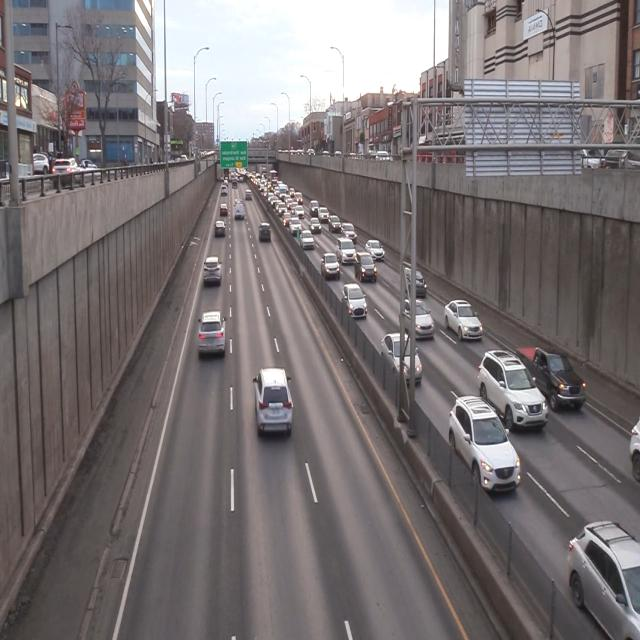Vehicle: (446, 383, 520, 508), (474, 343, 547, 444), (513, 330, 589, 421), (250, 368, 295, 444), (380, 332, 421, 395), (440, 295, 484, 346), (398, 296, 436, 345), (196, 307, 228, 361), (398, 258, 428, 303), (340, 281, 366, 322), (353, 251, 379, 287), (316, 251, 344, 280), (201, 257, 225, 288), (336, 234, 358, 267), (255, 220, 274, 247), (212, 216, 226, 245)
